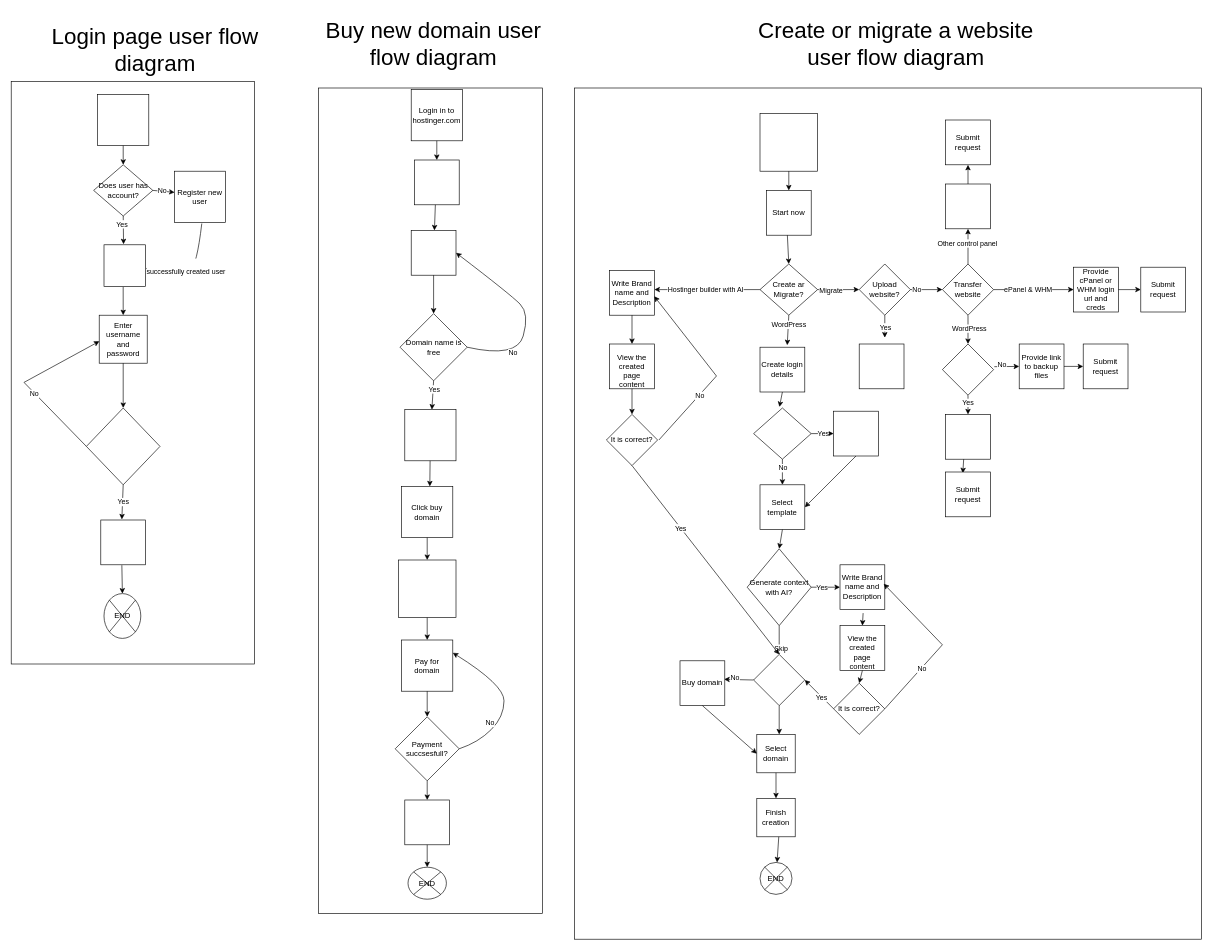
Some shapes in this 1213 by 950 pixel diagram are drawn without their labels. Each missing label, with the centre of its shape:
"Add plugins?" belongs at [782,433].
"Attempt Logiin" belongs at [124,265].
"Choose a domain extension etc. en,com,lt" belongs at [430,435].
"Choose a file from pc" belongs at [881,366].
"Choose how long you want to keep domain" belongs at [427,588].
"Create or migrate a website" belongs at [788,142].
"credentials are valid?" belongs at [123,446].
"Domain hosted at your panel" belongs at [427,822].
"Open https://hpanel.hostinger.com/domains/domain-checker" belongs at [436,182].
"Open https://www.hostinger.com/cpanel-login" belongs at [123,120].
"Provide credentials" belongs at [967,436].
"Provide website files, url and login" belongs at [967,206].
"Search for domain your loking at" belongs at [433,252].
"Select plugin" belongs at [855,433].
"Succsesfull login" belongs at [123,542].
"User WordPrees login?" belongs at [968,369].
"You have domain?" belongs at [779,680].
